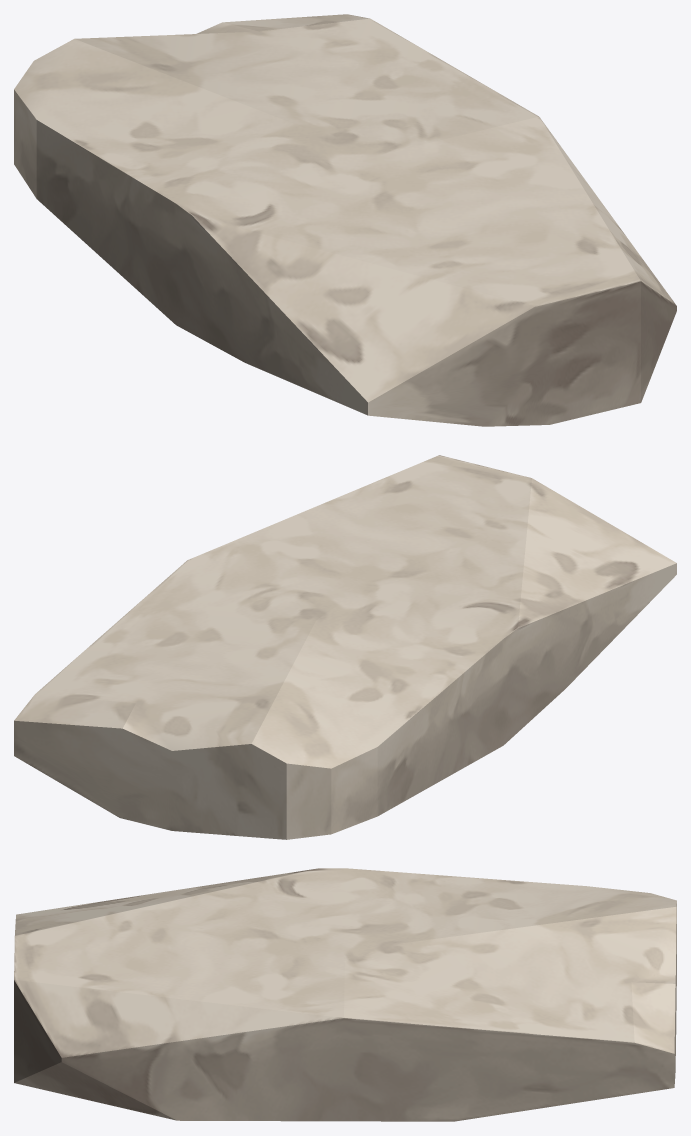
The model's file is ruina_1_top_maly.obj.
3 views of the same model, one above another, from view 1: azimuth 30°, elevation 25°; view 2: azimuth 150°, elevation 25°; view 3: azimuth 270°, elevation 25° (orthographic). The views are drawn at different scales.
Parts seen in each view (by area): view 1: Cylinder.006; view 2: Cylinder.006; view 3: Cylinder.006.
Boxes of the visible parts, <box> form: Cylinder.006: <box>14,14,676,426</box>; Cylinder.006: <box>14,455,676,839</box>; Cylinder.006: <box>14,868,676,1121</box>.
Bounding box in the file's own units: 8.87 × 2.81 × 16.34.
Materials: 1 (1 with a texture image).
